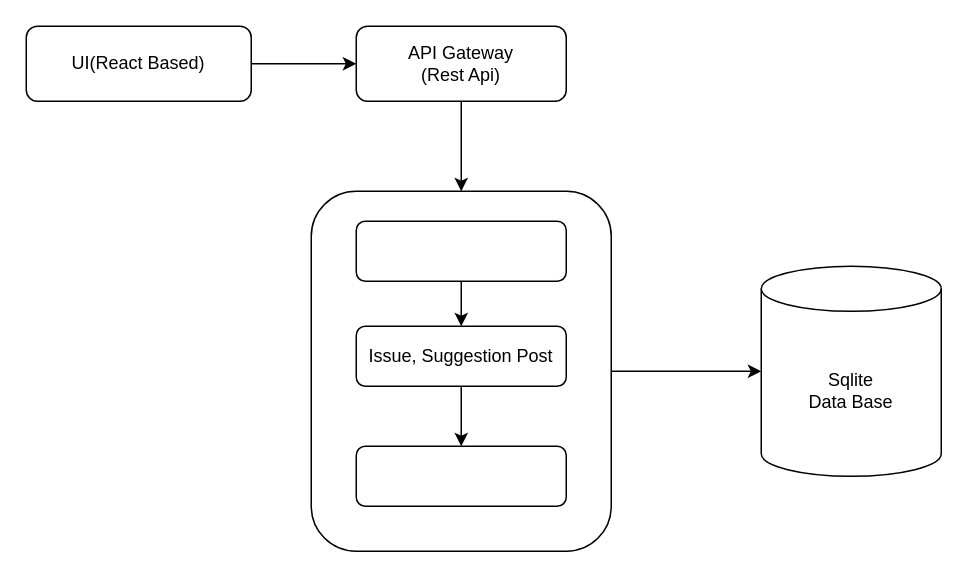
The diagram is 968 pixels wide and 578 high, and some of its shapes have lost their labels. The centre of each missing label's shape, as x and y in pixels:
Authentication Module: point 460,250
Chat, relation Handling: point 460,475
